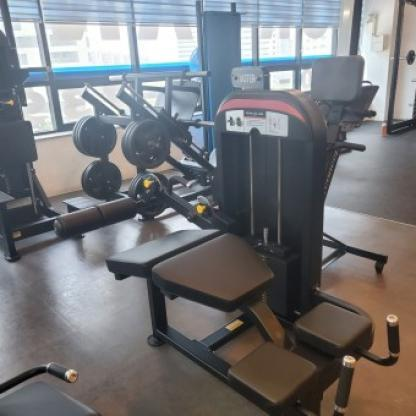reg curl machine: (52, 84, 408, 416)
